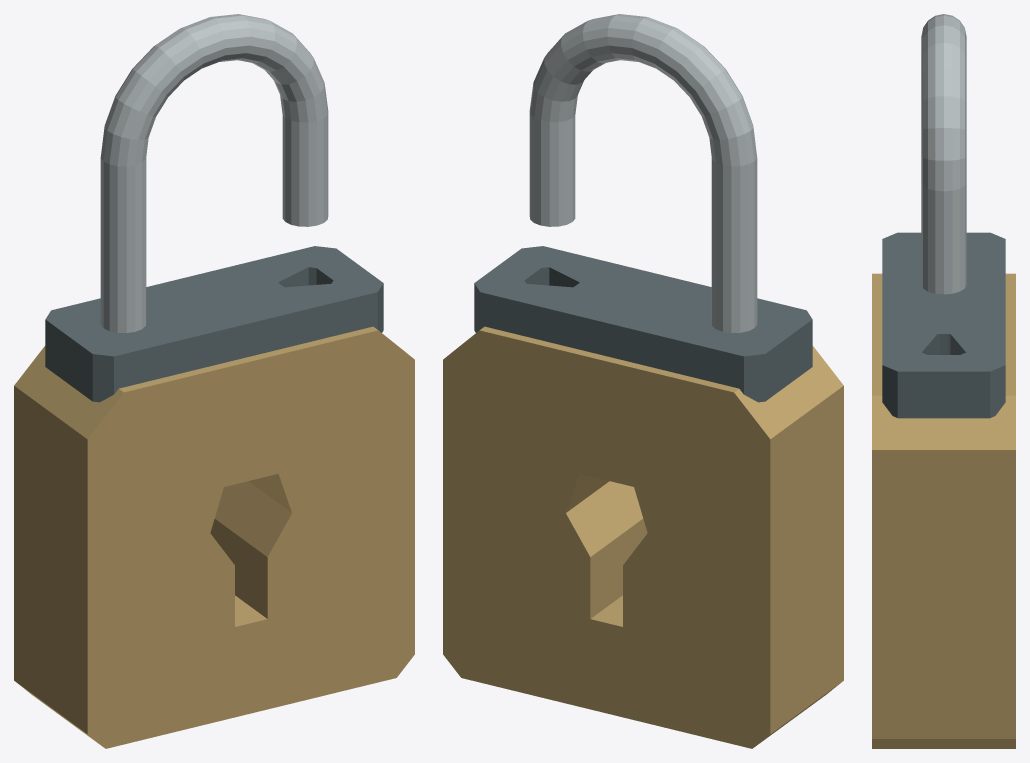
3 views of the same model, side by side, from view 1: azimuth 30°, elevation 25°; view 2: azimuth 150°, elevation 25°; view 3: azimuth 270°, elevation 25° (orthographic). The views are drawn at different scales.
Visible parts, largest first — view 1: WholeThickKeyholeLockBody, WholeRaisedCapAndOpenReceivingSocket, WholeUnequalLegOpenUShackle; view 2: WholeThickKeyholeLockBody, WholeRaisedCapAndOpenReceivingSocket, WholeUnequalLegOpenUShackle; view 3: WholeThickKeyholeLockBody, WholeRaisedCapAndOpenReceivingSocket, WholeUnequalLegOpenUShackle.
Part boxes in pixels (x1,y1,x2,y2): WholeThickKeyholeLockBody: [14, 326, 414, 748]; WholeRaisedCapAndOpenReceivingSocket: [45, 246, 383, 402]; WholeUnequalLegOpenUShackle: [100, 14, 328, 332]; WholeThickKeyholeLockBody: [443, 326, 843, 748]; WholeRaisedCapAndOpenReceivingSocket: [474, 246, 812, 402]; WholeUnequalLegOpenUShackle: [529, 14, 757, 332]; WholeThickKeyholeLockBody: [872, 273, 1015, 748]; WholeRaisedCapAndOpenReceivingSocket: [882, 232, 1005, 418]; WholeUnequalLegOpenUShackle: [921, 14, 966, 294].
Size of the model in its own units: 0.36 by 0.702 by 0.14.
